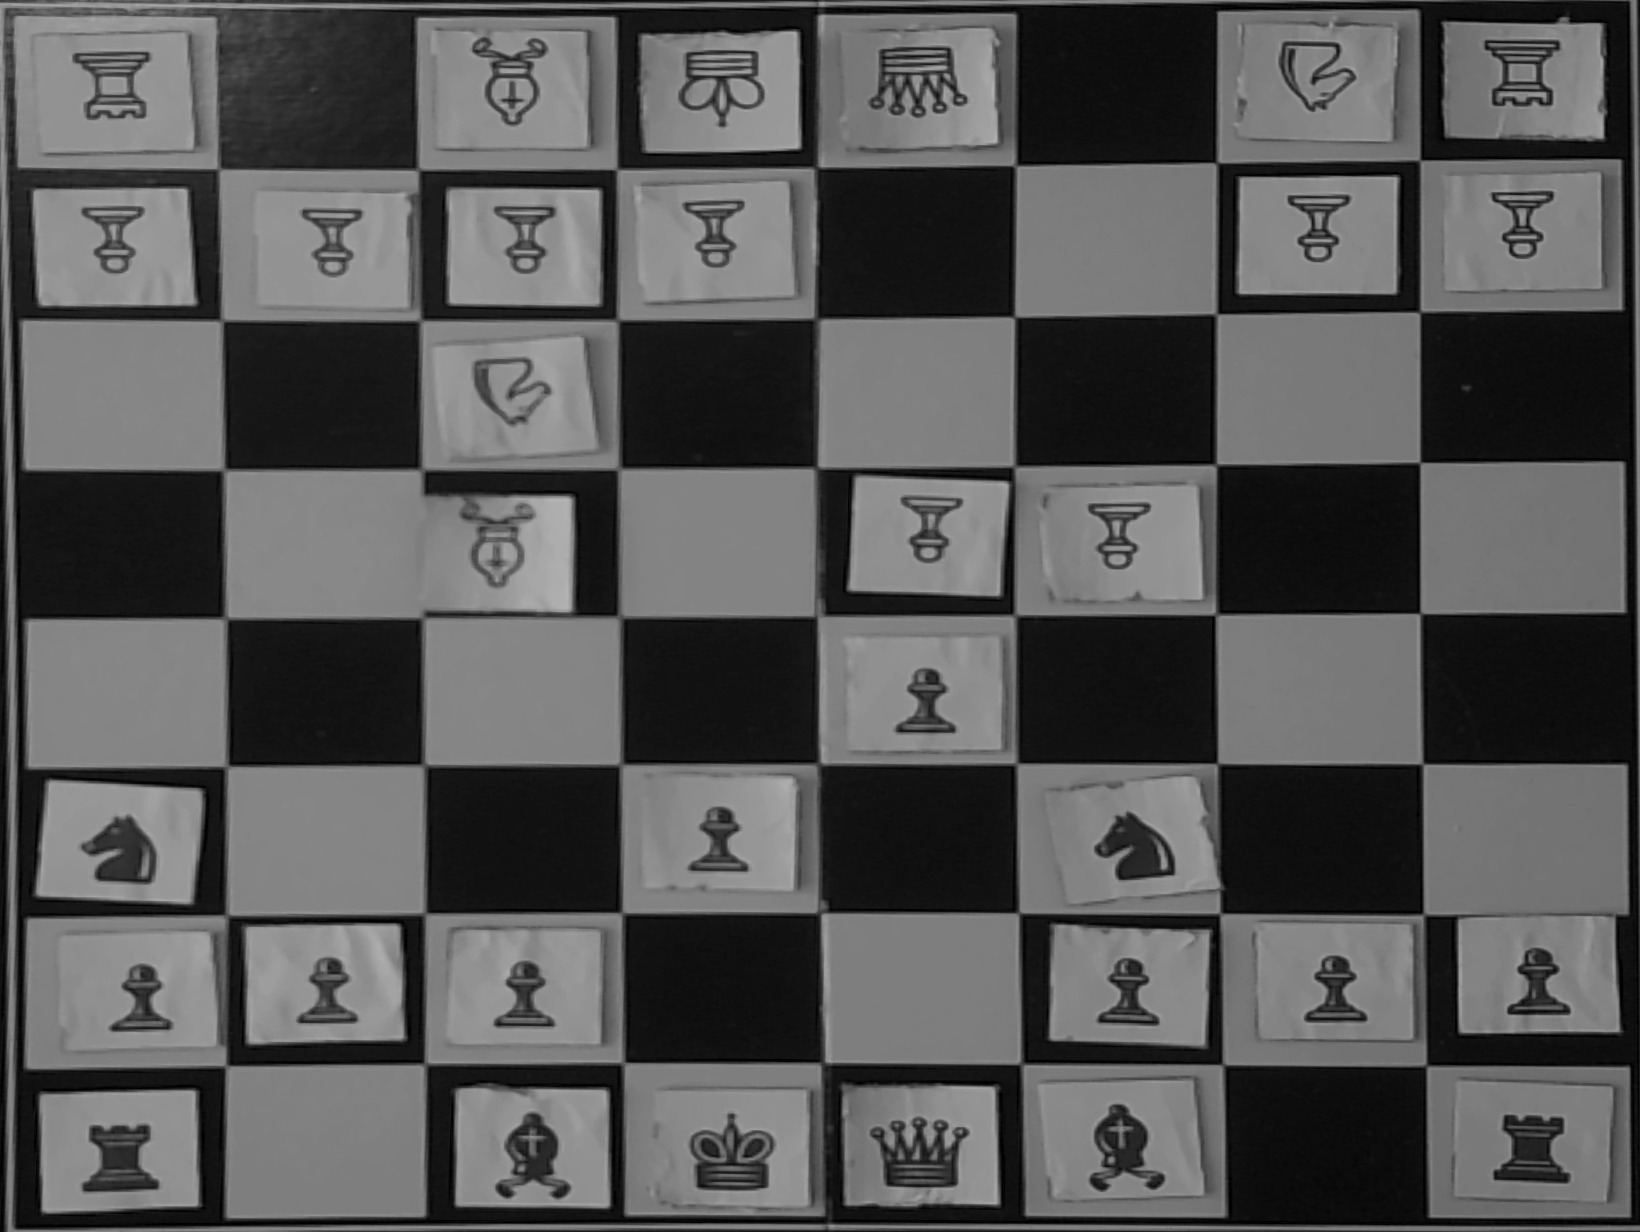b_bishop: (460, 1090, 604, 1207), (1048, 1081, 1192, 1198)
b_king: (661, 1096, 793, 1207)
b_knight: (1063, 791, 1193, 894), (54, 792, 184, 896)
b_pawn: (465, 937, 582, 1042), (1070, 934, 1186, 1039), (652, 780, 769, 884), (1478, 927, 1595, 1030)
b_queen: (852, 1090, 994, 1207)
b_rook: (49, 1096, 192, 1202), (1460, 1088, 1602, 1194)
w_bishop: (448, 31, 577, 148), (432, 492, 560, 608)
w_king: (651, 44, 786, 144)
w_knight: (1243, 31, 1384, 138), (439, 346, 580, 453)
w_pawn: (859, 480, 986, 582), (1060, 490, 1187, 593), (463, 194, 589, 296)
w_queen: (853, 44, 979, 132)
w_rook: (52, 48, 170, 142), (1461, 34, 1580, 127)
